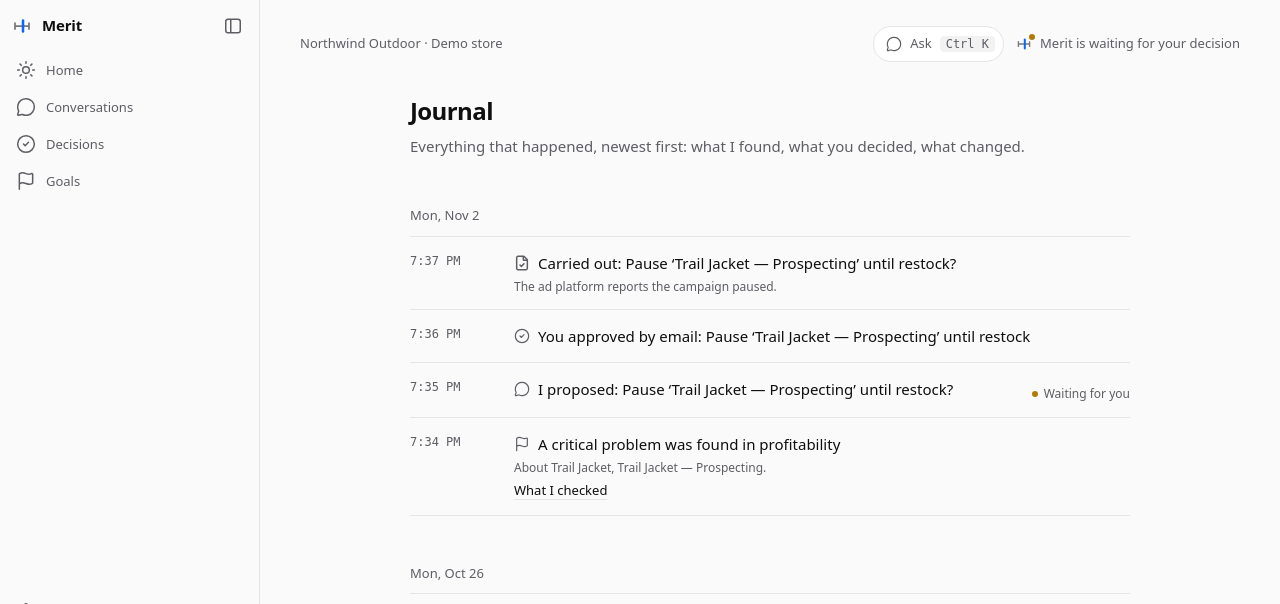
Test: the Journal › opens what was checked about a problem in the conversation
Click the button "What I checked".
click(561, 491)  # box [514,481,607,501]
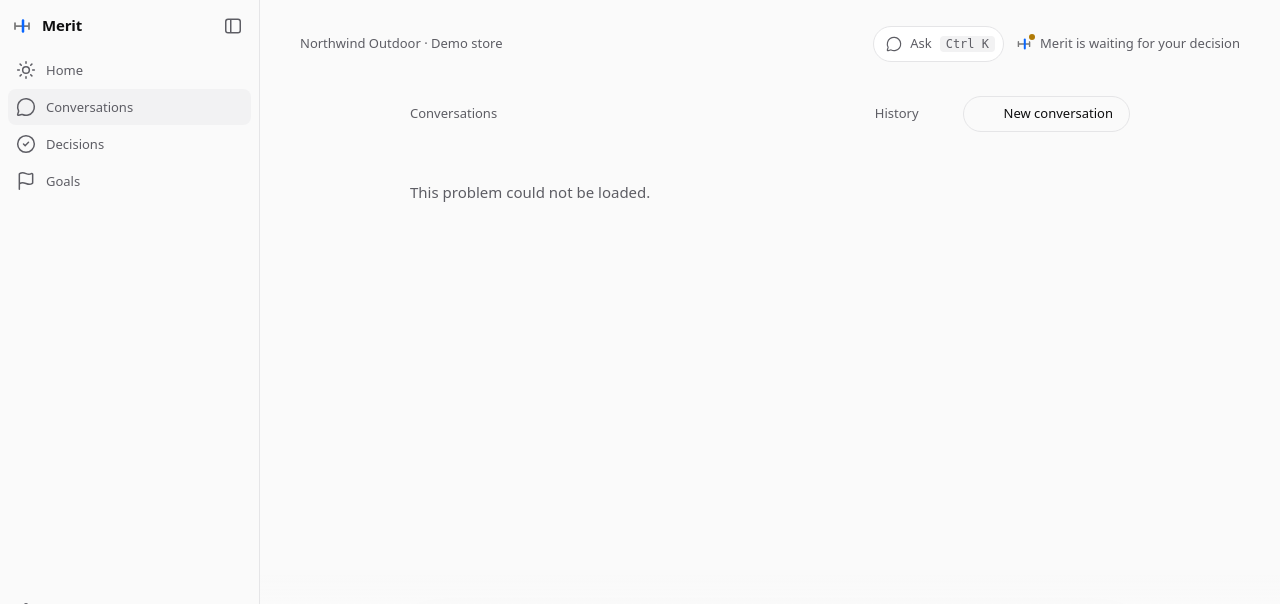
Expected: the text "This problem could not be loaded." is shown, [410,182,650,202]
